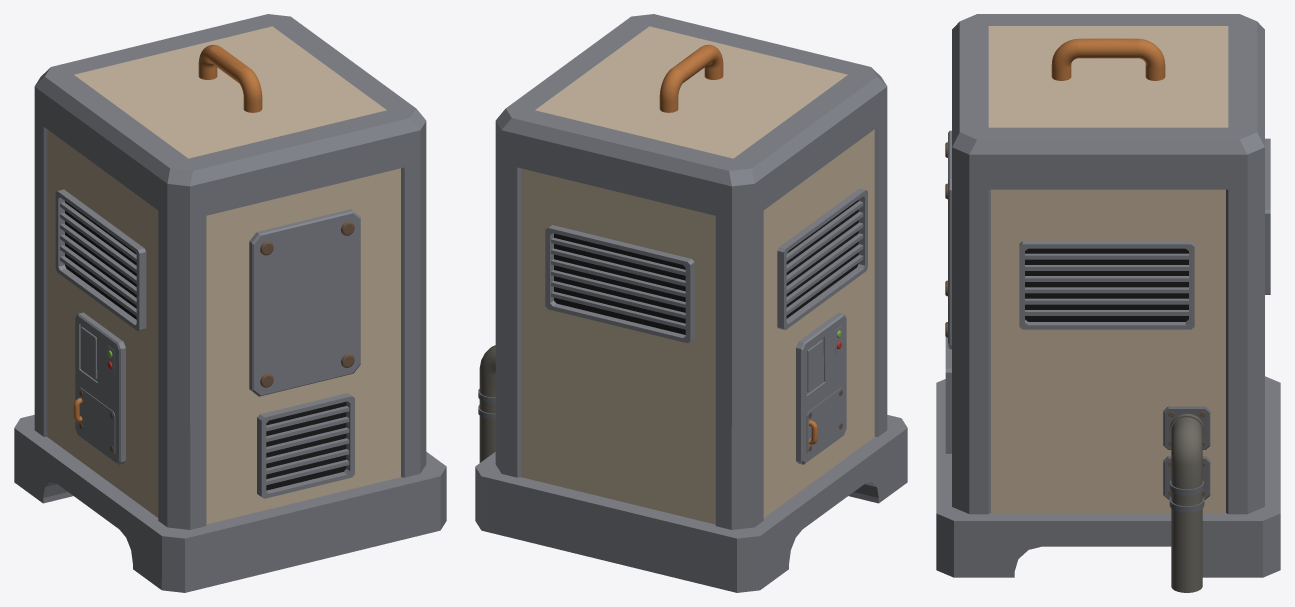
File: electro_box.fbx
3 renders of one model, left to right at view 1: azimuth 30°, elevation 25°; view 2: azimuth 150°, elevation 25°; view 3: azimuth 270°, elevation 25°, orthographic. The views are drawn at different scales.
Visible parts, largest first — view 1: Cube.029, Cube.030, Cube.042, Cube.031, Cube.035, Cube.036, Cube.033, Cylinder.008, Cylinder.007; view 2: Cube.029, Cube.040, Cube.042, Cube.041, Cube.035, Cube.036, Cylinder.008, Cylinder.010; view 3: Cube.029, Cube.035, Cube.036, Cylinder.010, Cylinder.008, Cube.037, Cube.040, Cube.030, Cube.031, Cube.038, Cylinder.023.
Part boxes in pixels (left/top/right/bottom): Cube.029: left=14, top=14, right=446, bottom=592; Cube.030: left=249, top=209, right=360, bottom=396; Cube.042: left=75, top=312, right=125, bottom=464; Cube.031: left=257, top=393, right=354, bottom=498; Cube.035: left=55, top=189, right=146, bottom=330; Cube.036: left=60, top=202, right=136, bottom=316; Cube.033: left=266, top=406, right=349, bottom=485; Cylinder.008: left=198, top=44, right=262, bottom=112; Cylinder.007: left=260, top=221, right=354, bottom=387; Cube.029: left=475, top=14, right=907, bottom=592; Cube.040: left=545, top=225, right=694, bottom=343; Cube.042: left=796, top=312, right=846, bottom=464; Cube.041: left=551, top=237, right=685, bottom=329; Cube.035: left=777, top=188, right=867, bottom=329; Cube.036: left=786, top=201, right=863, bottom=315; Cylinder.008: left=659, top=44, right=723, bottom=112; Cylinder.010: left=479, top=345, right=495, bottom=462; Cube.029: left=936, top=14, right=1280, bottom=577; Cube.035: left=1019, top=241, right=1194, bottom=329; Cube.036: left=1025, top=253, right=1188, bottom=315; Cylinder.010: left=1169, top=413, right=1204, bottom=592; Cylinder.008: left=1051, top=38, right=1165, bottom=80; Cube.037: left=1163, top=406, right=1210, bottom=449; Cube.040: left=1265, top=138, right=1270, bottom=294; Cube.030: left=948, top=130, right=951, bottom=349; Cube.031: left=945, top=337, right=951, bottom=453; Cube.038: left=1163, top=456, right=1210, bottom=499; Cylinder.023: left=1169, top=480, right=1204, bottom=512.
Bounding box in the file's own units: 244 × 328 × 220.
